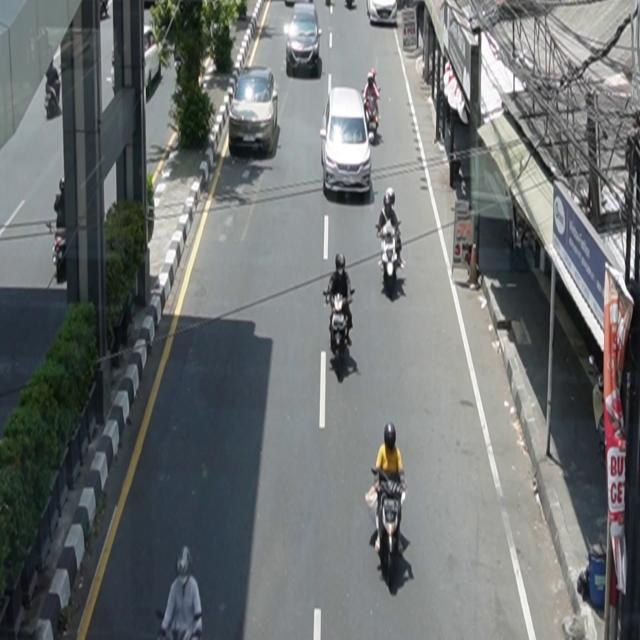car: (321, 86, 373, 198), (229, 66, 279, 156), (111, 25, 163, 96), (286, 2, 323, 72), (367, 1, 398, 26)
